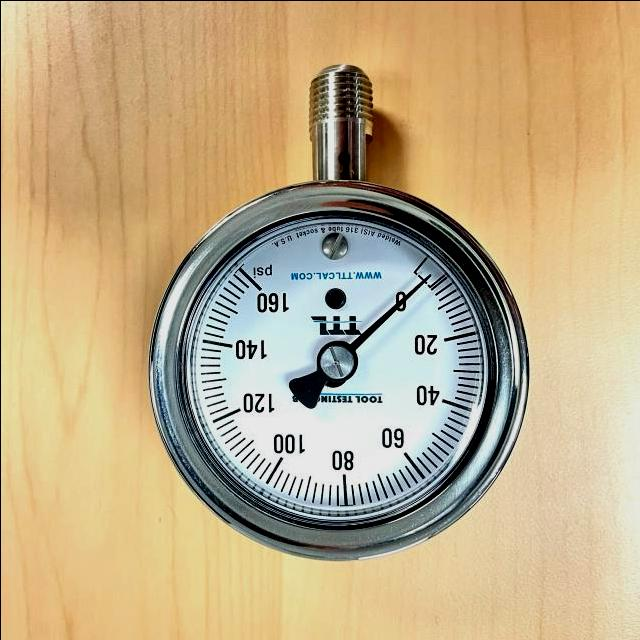Needle_base: (310, 336, 368, 387)
max_value: (244, 278, 303, 319)
min_value: (370, 276, 438, 322), (399, 260, 445, 304)
